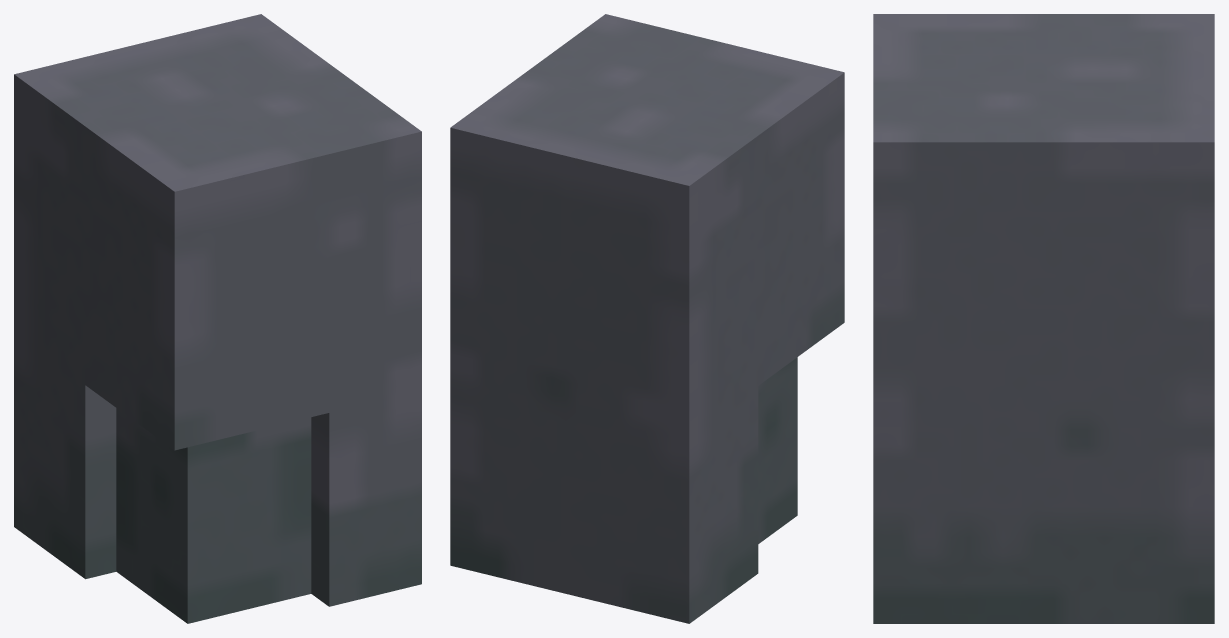
The model's file is Rock_5.fbx.
3 renders of one model, left to right at view 1: azimuth 30°, elevation 25°; view 2: azimuth 150°, elevation 25°; view 3: azimuth 270°, elevation 25°, orthographic. The views are drawn at different scales.
Visible parts, largest first — view 1: Rock_5; view 2: Rock_5; view 3: Rock_5.
Boxes of the visible parts, <box> form: Rock_5: <box>14,14,421,623</box>; Rock_5: <box>450,14,844,623</box>; Rock_5: <box>873,14,1214,623</box>.
Size of the model in its own units: 40 by 70 by 45.
